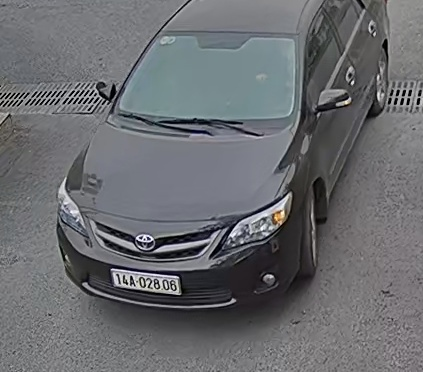vehicle plate: (107, 267, 184, 294)
